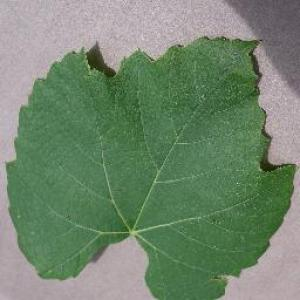Folha: (4, 34, 298, 299)
